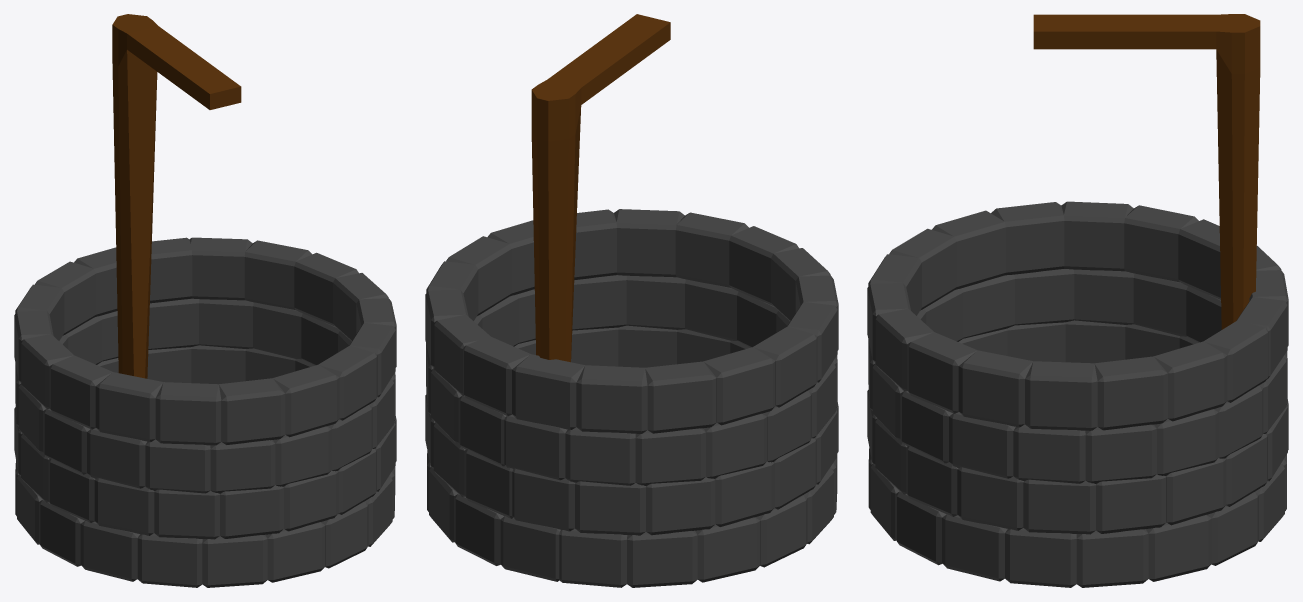
The model's file is Well.glb.
3 views of the same model, side by side, from view 1: azimuth 30°, elevation 25°; view 2: azimuth 150°, elevation 25°; view 3: azimuth 270°, elevation 25° (orthographic). The views are drawn at different scales.
Parts seen in each view (by area): view 1: Cube.002, Cube.004; view 2: Cube.002, Cube.004; view 3: Cube.002, Cube.004.
Boxes of the visible parts, <box> form: Cube.002: <box>14,237,396,587</box>; Cube.004: <box>112,14,241,378</box>; Cube.002: <box>425,209,838,587</box>; Cube.004: <box>531,14,670,362</box>; Cube.002: <box>867,201,1288,587</box>; Cube.004: <box>1033,14,1260,329</box>.
Bounding box in the file's own units: 1.77 × 2.21 × 1.76.
